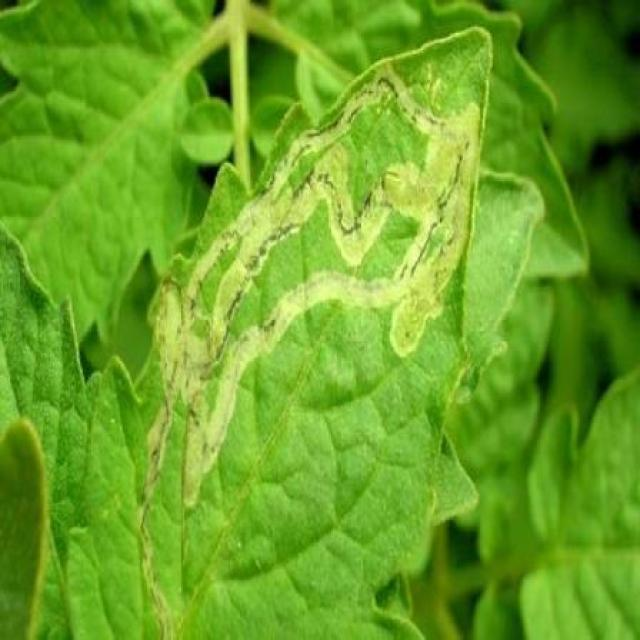Leaf Miner: (66, 24, 493, 640)
